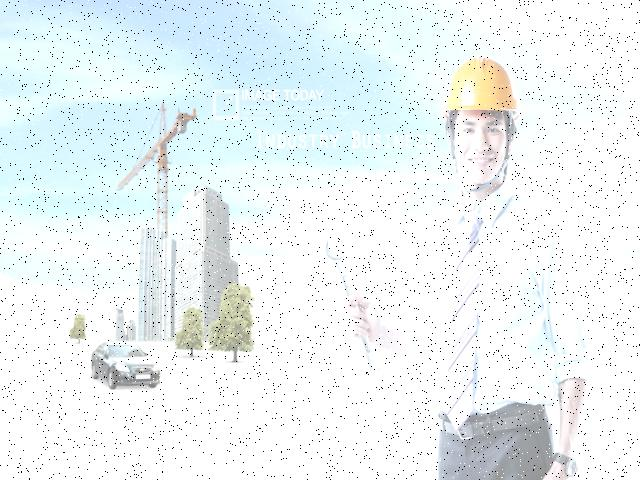Helmet: (438, 51, 524, 130)
